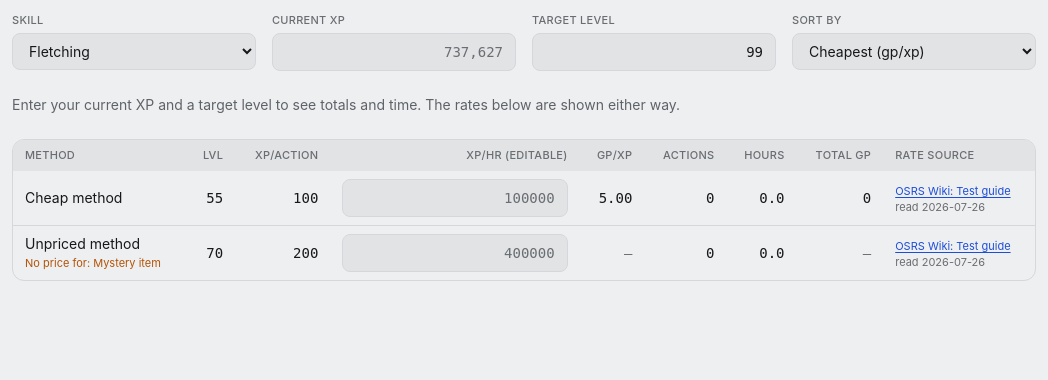
Scenario: TrainingMethodComparator › recalculates from a user-edited xp/hr
The width and height of the screenshot is (1048, 380).
Type "12034431" into the field labelled "Current XP" at x=394, y=52, box [272,32,516,70]
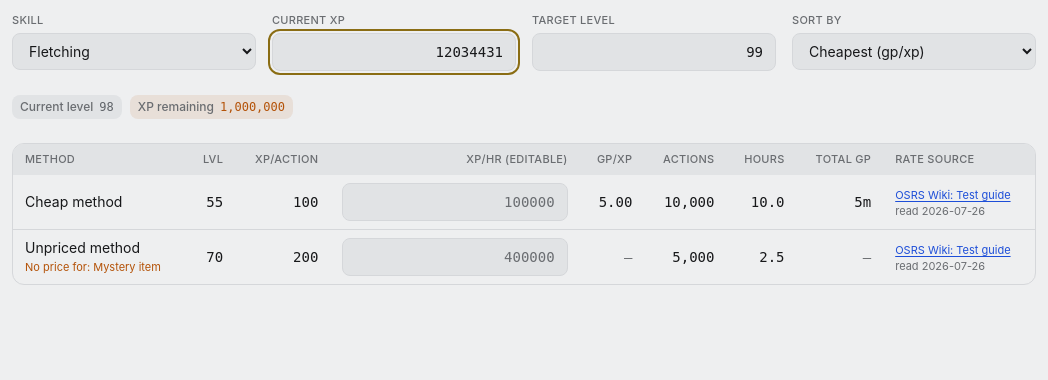
Result: the text "10.0" is shown at [726,175,797,230]
Type "250000" into the field named "XP per hour for Cheap method" at x=455, y=202, box [342,183,568,221]
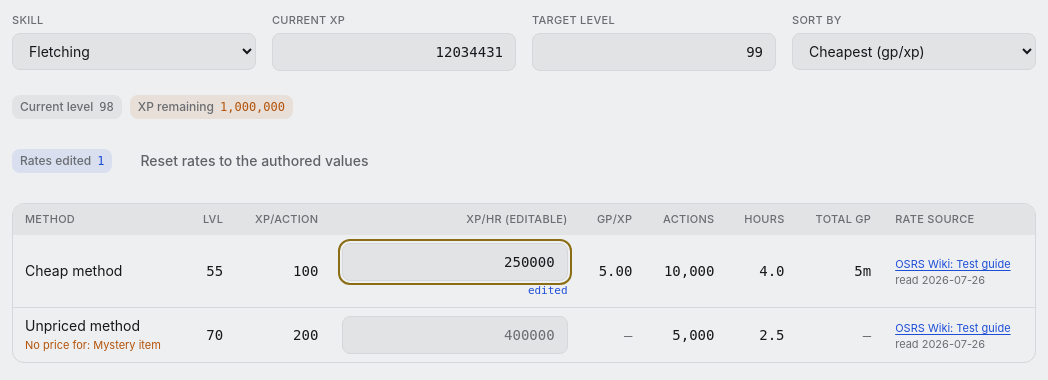
Result: the text "4.0" is shown at [726,235,797,307]
